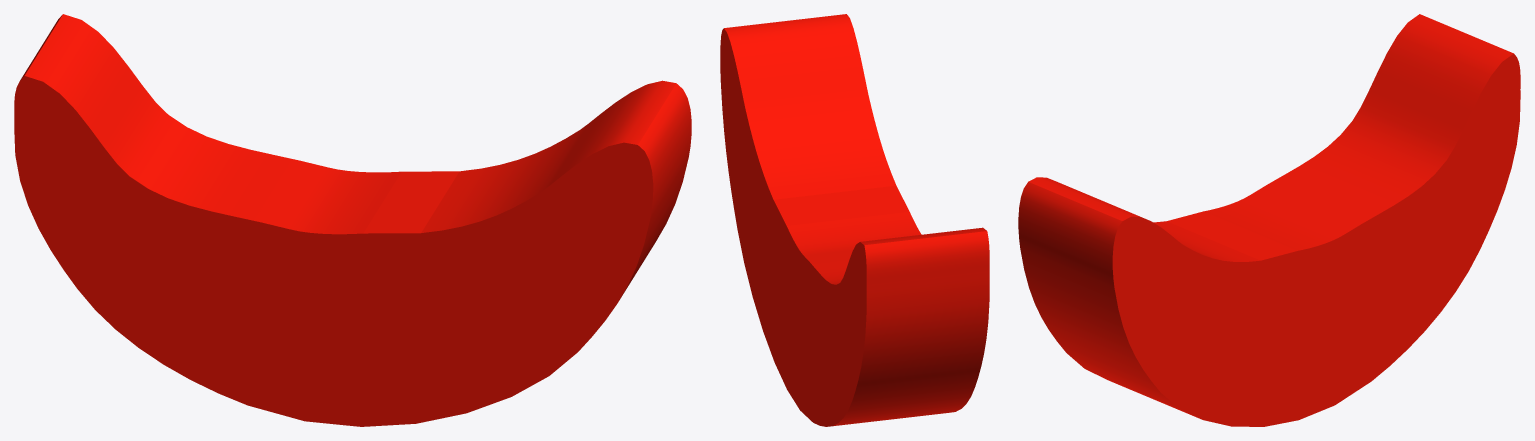
The model's file is 005-Spoon_Wooden_01.FBX.
3 views of the same model, side by side, from view 1: azimuth 30°, elevation 25°; view 2: azimuth 150°, elevation 25°; view 3: azimuth 270°, elevation 25° (orthographic). The views are drawn at different scales.
Parts seen in each view (by area): view 1: 005-Spoon_Wooden_01; view 2: 005-Spoon_Wooden_01; view 3: 005-Spoon_Wooden_01.
Part boxes in pixels (x1,y1,x2,y2): 005-Spoon_Wooden_01: (14, 14, 691, 426); 005-Spoon_Wooden_01: (720, 14, 989, 426); 005-Spoon_Wooden_01: (1018, 14, 1520, 426).
Bounding box in the file's own units: 48.09 × 28.97 × 47.82.
